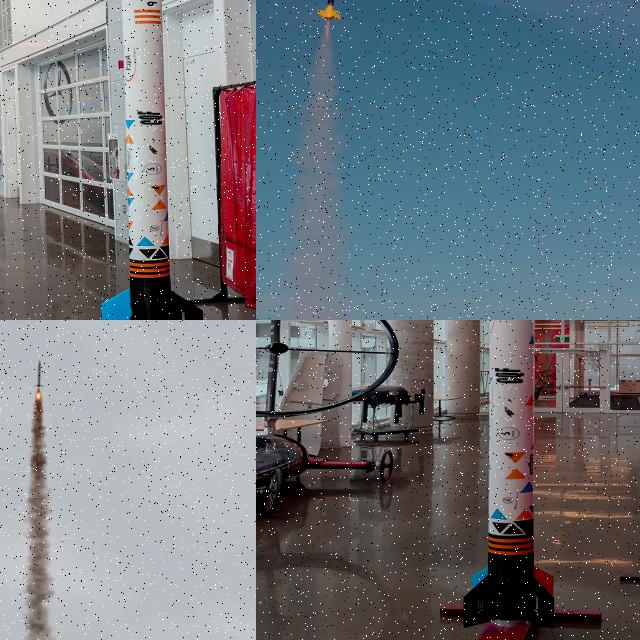Rocket: (101, 0, 203, 320), (463, 320, 554, 629), (317, 0, 344, 23), (33, 359, 44, 388)
